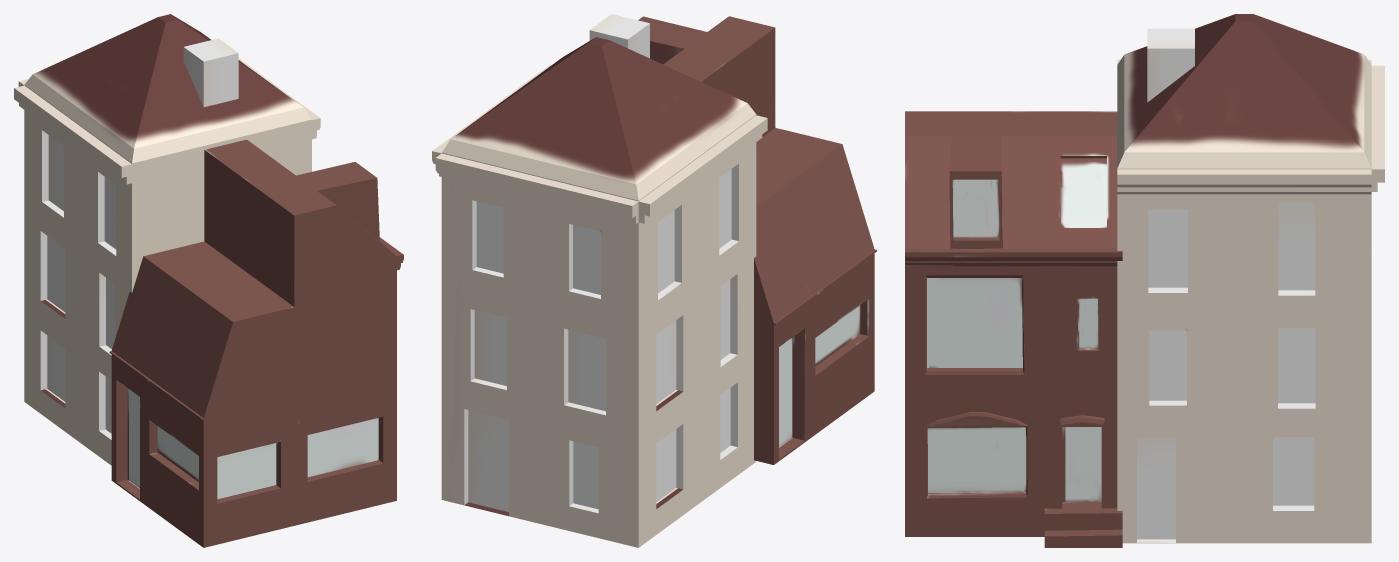
File: House 2 and 3.fbx
3 views of the same model, side by side, from view 1: azimuth 30°, elevation 25°; view 2: azimuth 150°, elevation 25°; view 3: azimuth 270°, elevation 25° (orthographic). The views are drawn at different scales.
Parts seen in each view (by area): view 1: huis 1, huis 2; view 2: huis 2, huis 1; view 3: huis 2, huis 1.
Part boxes in pixels (x1=…): huis 1: x1=109, y1=139, x2=403, y2=547; huis 2: x1=14, y1=14, x2=320, y2=465; huis 2: x1=432, y1=14, x2=767, y2=547; huis 1: x1=638, y1=16, x2=876, y2=464; huis 2: x1=1117, y1=14, x2=1384, y2=543; huis 1: x1=905, y1=111, x2=1122, y2=547.
Bounding box in the file's own units: 858 × 1537 × 1410.
